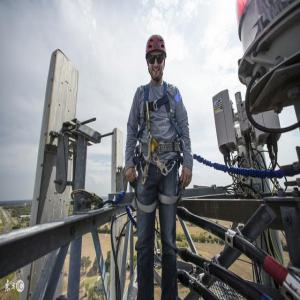red: (144, 34, 169, 83)
